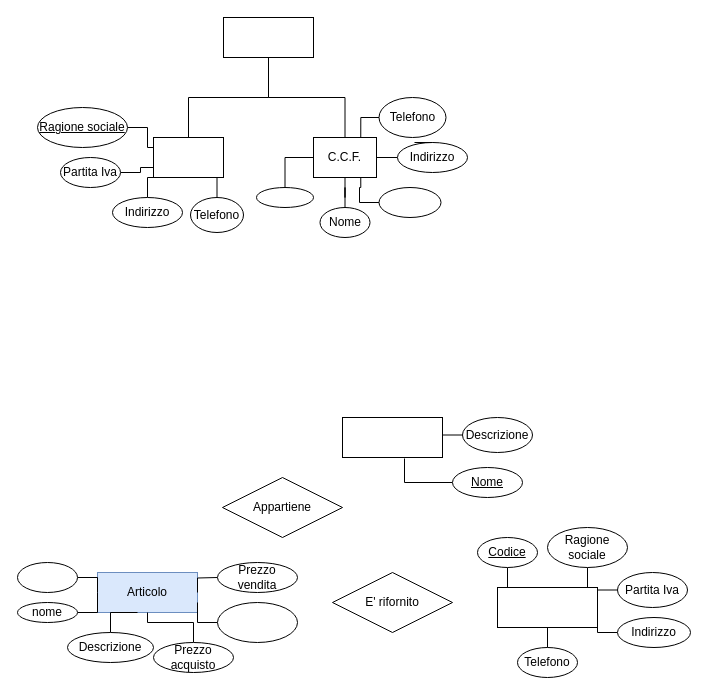
The diagram is 708 pixels wide and 695 high, and some of its shapes have lost their labels. The shapes that lost their labels are listed below. From the top down, each one's box as (x1, y1, x2, y2) in pixels, then its label:
(222, 16, 314, 58): Cliente
(152, 136, 224, 178): C.P.Iva
(256, 186, 314, 208): C.F.
(378, 186, 441, 218): Cognome
(342, 416, 442, 458): Categoria
(16, 562, 78, 592): Chiave
(216, 602, 298, 642): Lotto produzione
(496, 586, 598, 628): Fornitore
